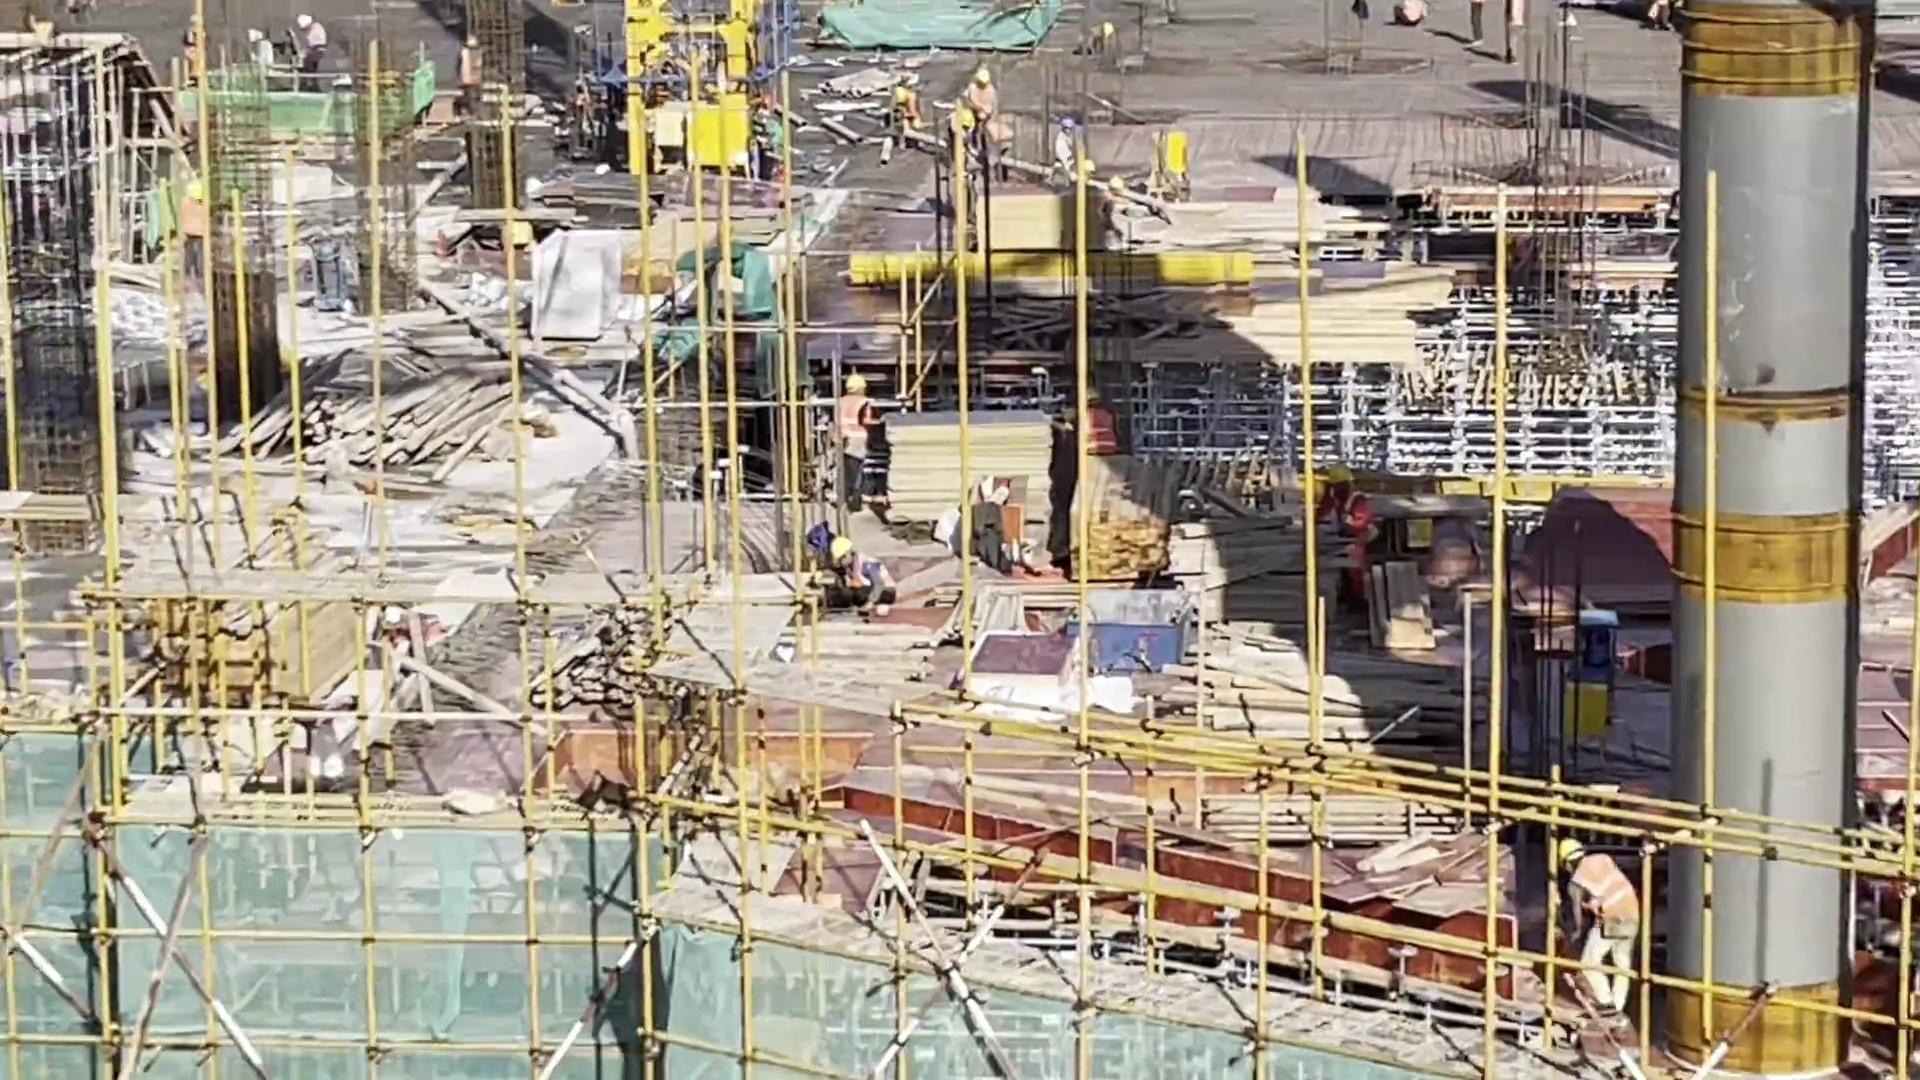helmet: (840, 369, 871, 394), (831, 537, 864, 561), (1321, 464, 1351, 484), (1563, 838, 1583, 867), (978, 65, 993, 92), (1082, 391, 1111, 405), (244, 26, 268, 42), (296, 12, 315, 29), (189, 13, 208, 29), (1062, 116, 1076, 136), (890, 88, 912, 100), (960, 113, 973, 132), (1110, 175, 1124, 193), (1086, 159, 1098, 176), (1505, 234, 1514, 250), (468, 33, 480, 44)
person: (1559, 825, 1644, 1001), (1313, 460, 1378, 599), (837, 387, 882, 503), (840, 538, 893, 618), (180, 169, 212, 282), (1070, 387, 1121, 458), (1499, 218, 1531, 303), (938, 102, 979, 168), (884, 82, 920, 149), (958, 66, 1004, 115), (1109, 169, 1138, 242), (182, 19, 212, 89), (295, 13, 325, 85), (463, 34, 496, 94), (1054, 104, 1083, 172), (246, 24, 277, 74), (1630, 1, 1669, 31), (1509, 1, 1523, 64), (1467, 1, 1485, 49), (1080, 149, 1098, 184), (1400, 1, 1428, 25)
vest: (1572, 866, 1642, 948), (1329, 491, 1373, 543), (835, 395, 869, 456), (1077, 410, 1116, 452), (846, 558, 894, 586), (1103, 191, 1127, 238), (177, 37, 209, 70), (462, 54, 488, 88), (1503, 1, 1531, 31), (1511, 242, 1534, 279), (976, 81, 996, 117), (949, 122, 973, 152), (302, 28, 326, 55), (887, 104, 921, 124), (1054, 134, 1072, 164), (256, 44, 278, 63), (1405, 1, 1426, 20)
